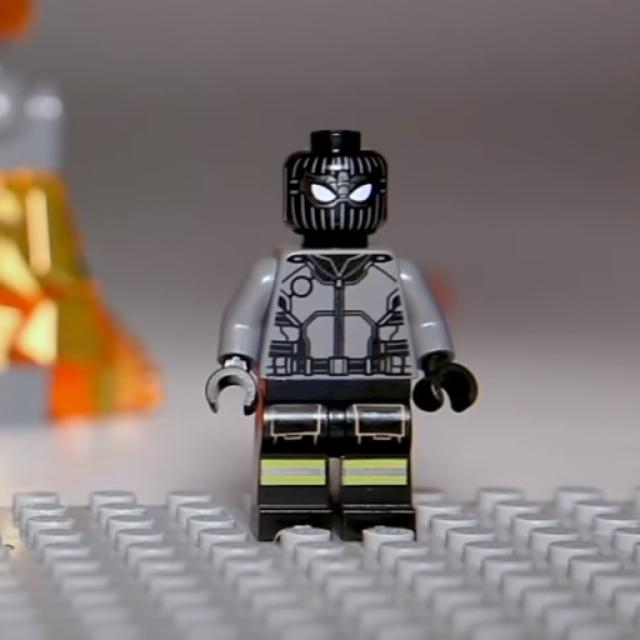Lego-Minifigures: (195, 110, 492, 560)
